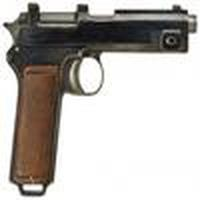gun: (3, 11, 194, 189)
